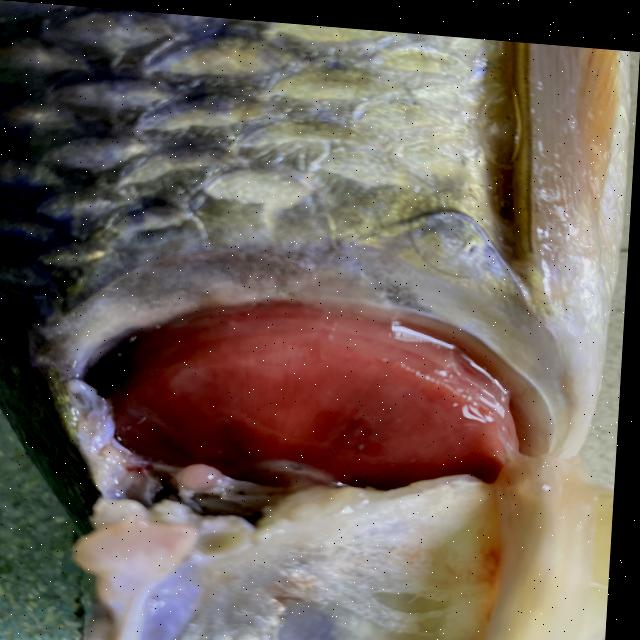Fresh: (1, 228, 623, 581)
